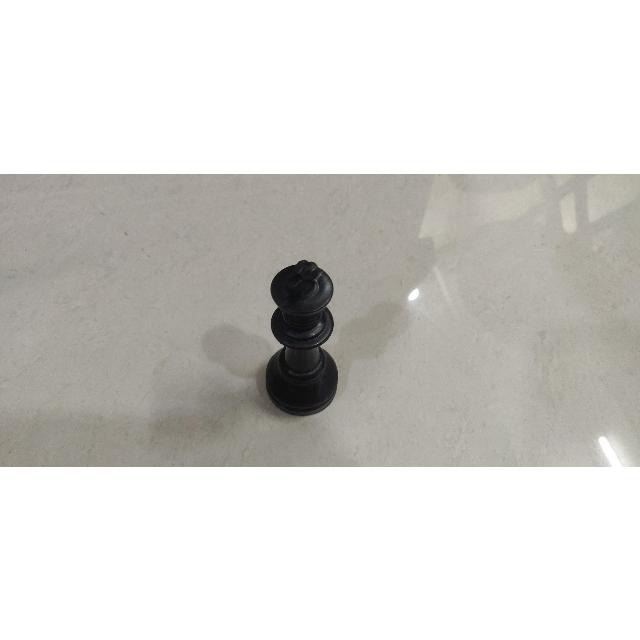black-king: (260, 256, 346, 418)
